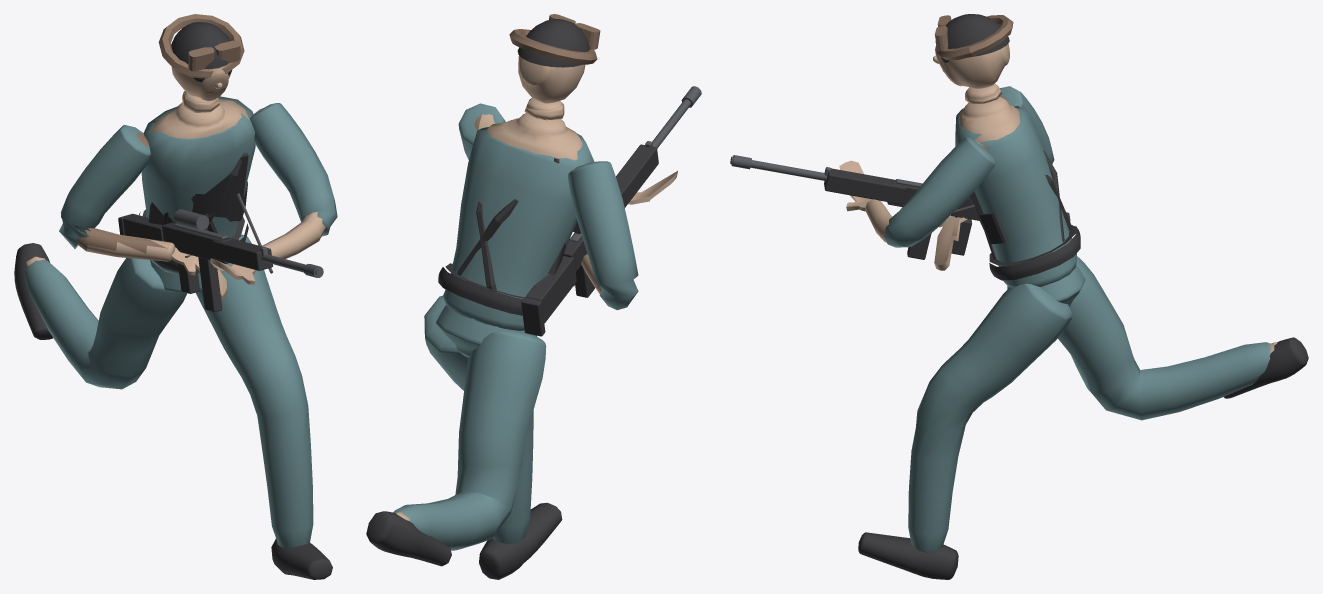
Rendered from tactical-shooter-hill-town-recon-operator-running-f971f4ae__27573.glb.
The picture shows the model from 3 angles, left to right: view 1: azimuth 30°, elevation 25°; view 2: azimuth 150°, elevation 25°; view 3: azimuth 270°, elevation 25°; orthographic projection. The views are drawn at different scales.
Parts seen in each view (by area): view 1: recon-operator-running; view 2: recon-operator-running; view 3: recon-operator-running.
Part boxes in pixels (<box>): recon-operator-running: <box>14,14,337,579</box>; recon-operator-running: <box>366,14,701,579</box>; recon-operator-running: <box>730,14,1308,579</box>.
Size of the model in its own units: 0.6395 by 1.61 by 1.59.
